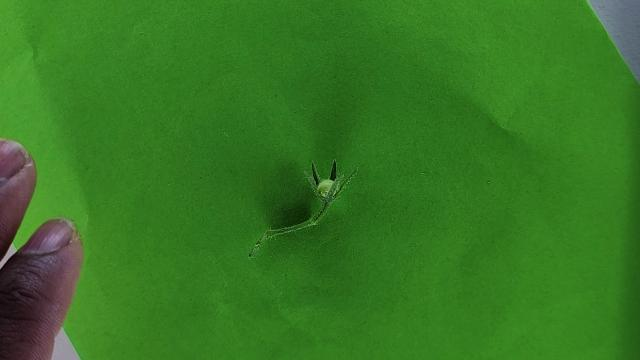Fruit Bud: (307, 160, 342, 202)
